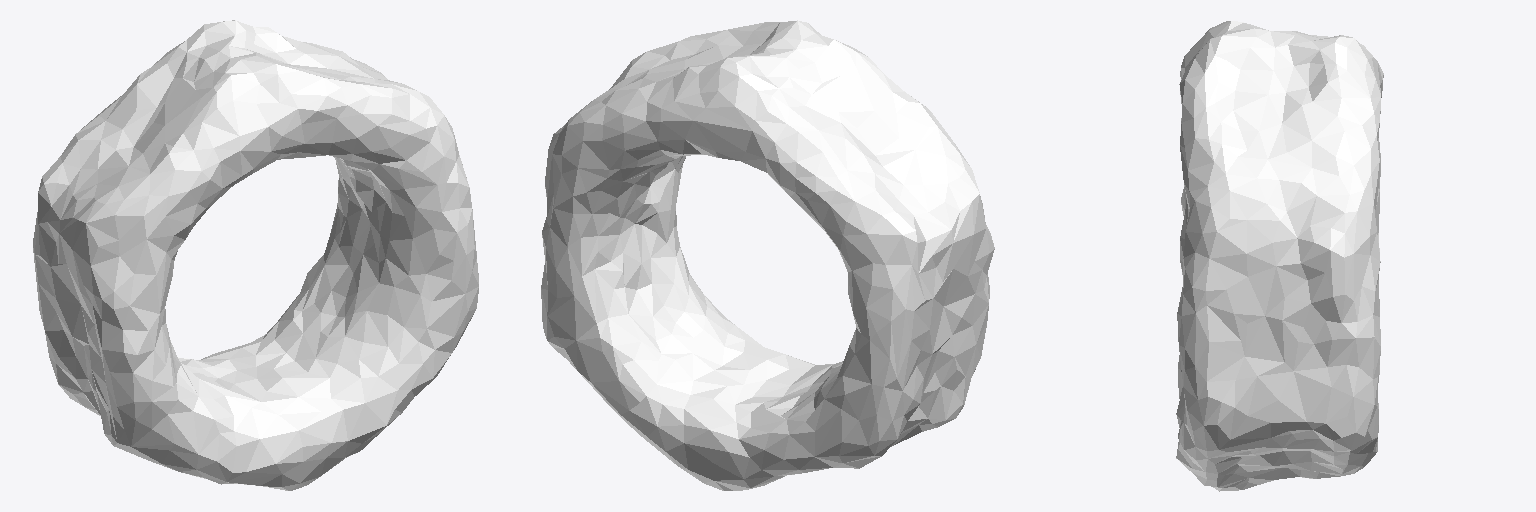
The robot description file, URDF, robot "atb1_nut-m16":
<?xml version="0.0" ?>
<robot name="atb1_nut-m16">
  <link name="baseLink">
    <contact>
      <friction_anchor/>
      <lateral_friction value="0.8"/>
      <spinning_friction value="0.001"/>
      <rolling_friction value="0.001"/>
      <contact_cfm value="0.0"/>
      <contact_erp value="0.2"/>
    </contact>
    <inertial>
       <origin rpy="0 0 0" xyz="0 0 0"/>
       <mass value="0.01"/>
       <inertia ixx="1e-3" ixy="0" ixz="0" iyy="1e-3" iyz="0" izz="1e-3"/>
    </inertial>
    <visual>
      <origin rpy="0 0 0" xyz="0 0 0"/>
      <geometry>
        <mesh filename="obj/fused_model.obj" scale="1 1 1"/>
      </geometry>
      <material name="white">
        <color rgba="1. 1. 1. 1."/>
      </material>
    </visual>
    <collision>
      <origin rpy="0 0 0" xyz="0 0 0"/>
      <geometry>
        <mesh filename="obj/fused_model.obj" scale="1 1 1"/>
      </geometry>
    </collision>
  </link>
</robot>

--- What the picture shows (computed from the rendered views, not written in the file) ---
The picture shows the robot from 3 angles, left to right: view 1: azimuth 30°, elevation 25°; view 2: azimuth 150°, elevation 25°; view 3: azimuth 270°, elevation 25°; orthographic projection.
Model atb1_nut-m16 with 1 links and 0 joints (none), rooted at baseLink, posed every joint at zero.
Visible links, largest first — view 1: baseLink; view 2: baseLink; view 3: baseLink.
Link boxes in pixels (x1,y1,x2,y2): baseLink: (33,20,478,490); baseLink: (541,20,994,490); baseLink: (1176,21,1383,491).
Size in the robot's own frame: 0.025 by 0.0113 by 0.0269 metres.
1 mesh visuals loaded from 1 distinct referenced files (1 OBJ).
